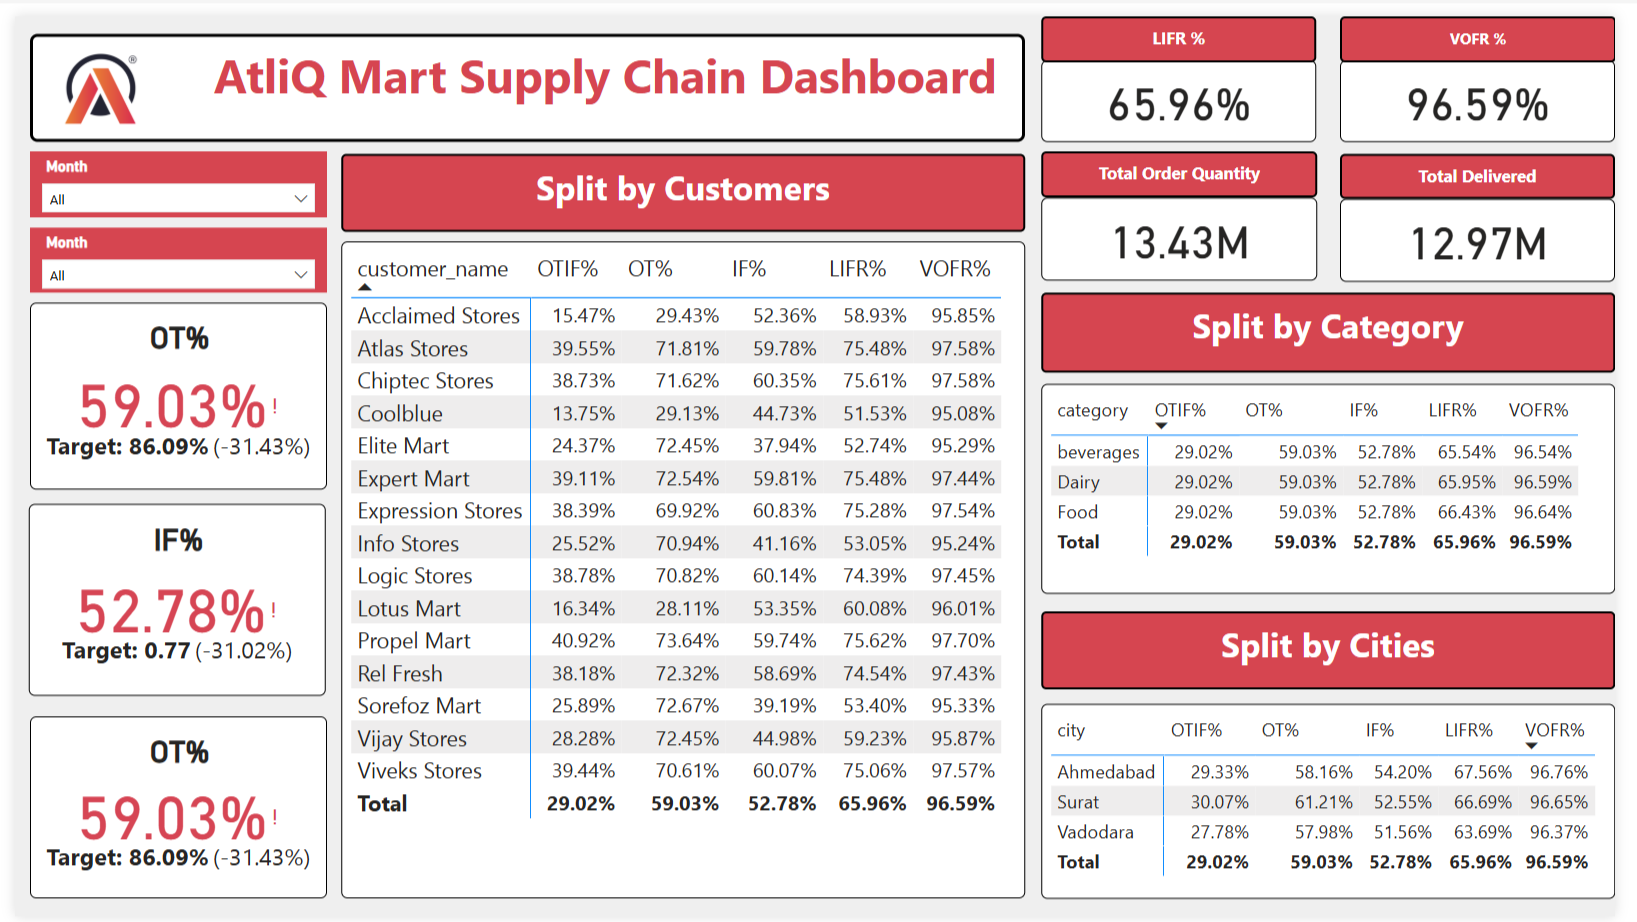

Layout of this report page (visuals, bound fields, positions):
{"tool":"powerbi","page":{"name":"Supply Chain ","canvas":[1280,720],"ordinal":0},"visuals":[{"type":"textbox","box":[11.9,14.3,796.4,86.9],"z":0},{"type":"pivotTable","fields":{"Rows":["dim_customers.customer_name"],"Values":["fact_orders_aggregate.OTIF%","fact_orders_aggregate.OT%","fact_orders_aggregate.IF%","fact_order_lines.LIFR%","fact_order_lines.VOFR%"]},"box":[260.7,179.8,547.6,526.2],"z":1000},{"type":"kpi","title":"OT% ","fields":{"Indicator":["fact_orders_aggregate.OT%"],"TrendLine":["fact_order_lines.order_placement_date.Variation.Date Hierarchy.Year"],"Goal":["dim_targets_orders.OT_AVG"]},"box":[11.9,228.6,238.1,150],"z":2000},{"type":"kpi","title":"IF% ","fields":{"TrendLine":["fact_order_lines.order_placement_date.Variation.Date Hierarchy.Year"],"Indicator":["fact_orders_aggregate.IF%"],"Goal":["dim_targets_orders.IF_AVG"]},"box":[10.7,390.5,238,153.6],"z":3000},{"type":"kpi","title":"OT% ","fields":{"Indicator":["fact_orders_aggregate.OT%"],"TrendLine":["fact_order_lines.order_placement_date.Variation.Date Hierarchy.Year"],"Goal":["dim_targets_orders.OT_AVG"]},"box":[11.9,559.5,238.1,146.4],"z":4000},{"type":"pivotTable","fields":{"Values":["fact_orders_aggregate.OTIF%","fact_orders_aggregate.OT%","fact_orders_aggregate.IF%","fact_order_lines.LIFR%","fact_order_lines.VOFR%"],"Rows":["dim_customers.city"]},"box":[821.4,550,458.3,155.9],"z":5000},{"type":"textbox","box":[260.7,109.5,547.6,63.1],"z":6000},{"type":"textbox","box":[821.4,476.2,458.3,63.1],"z":7000},{"type":"pivotTable","fields":{"Values":["fact_orders_aggregate.OTIF%","fact_orders_aggregate.OT%","fact_orders_aggregate.IF%","fact_order_lines.LIFR%","fact_order_lines.VOFR%"],"Rows":["dim_products.category"]},"box":[821.4,294.1,458.3,167.9],"z":8000},{"type":"textbox","box":[821.4,221.4,458.3,63.1],"z":9000},{"type":"card","fields":{"Values":["fact_order_lines.LIFR%"]},"box":[821.4,34.5,220,66.7],"z":10000},{"type":"textbox","box":[821.4,0,220,36.9],"z":11000},{"type":"card","fields":{"Values":["fact_order_lines.VOFR%"]},"box":[1059.5,34.5,220.2,66.7],"z":12000},{"type":"textbox","box":[1059.5,0,221.4,36.9],"z":13000},{"type":"card","fields":{"Values":["Sum(fact_order_lines.order_qty)"]},"box":[821.4,145.2,220.2,66.7],"z":14000},{"type":"textbox","box":[821.4,108.3,220.2,36.9],"z":15000},{"type":"card","fields":{"Values":["Sum(fact_order_lines.delivery_qty)"]},"box":[1059.5,146.4,220.2,66.7],"z":16000},{"type":"textbox","box":[1059.5,109.5,220.2,36.9],"z":17000},{"type":"slicer","fields":{"Values":["fact_order_lines.actual_delivery_date.Variation.Date Hierarchy.Month"]},"box":[11.9,108.3,238.1,52.4],"z":18000},{"type":"slicer","fields":{"Values":["fact_order_lines.actual_delivery_date.Variation.Date Hierarchy.Month"]},"box":[11.9,169.1,238.1,52.4],"z":19000},{"type":"image","box":[26.1,23.6,86.9,68.3],"z":20000}]}

Visuals, with their boxes in screenshot pixels (x1, y1, x2, y2), scaled from the page's 1280x720 canvas onto the 1637x922 screenshot:
textbox: <region>15, 18, 1034, 130</region>
pivotTable - dim_customers.customer_name x fact_orders_aggregate.OTIF%: <region>333, 230, 1034, 904</region>
"OT% " kpi: <region>15, 293, 320, 485</region>
"IF% " kpi: <region>14, 500, 318, 697</region>
"OT% " kpi: <region>15, 716, 320, 904</region>
pivotTable - fact_orders_aggregate.OTIF% x fact_orders_aggregate.OT%: <region>1050, 704, 1636, 904</region>
textbox: <region>333, 140, 1034, 221</region>
textbox: <region>1050, 610, 1636, 691</region>
pivotTable - fact_orders_aggregate.OTIF% x fact_orders_aggregate.OT%: <region>1050, 377, 1636, 592</region>
textbox: <region>1050, 284, 1636, 364</region>
card - fact_order_lines.LIFR%: <region>1050, 44, 1332, 130</region>
textbox: <region>1050, 0, 1332, 47</region>
card - fact_order_lines.VOFR%: <region>1355, 44, 1636, 130</region>
textbox: <region>1355, 0, 1636, 47</region>
card - Sum(fact_order_lines.order_qty): <region>1050, 186, 1332, 271</region>
textbox: <region>1050, 139, 1332, 186</region>
card - Sum(fact_order_lines.delivery_qty): <region>1355, 187, 1636, 273</region>
textbox: <region>1355, 140, 1636, 187</region>
slicer - fact_order_lines.actual_delivery_date.Variation.Date Hierarchy.Month: <region>15, 139, 320, 206</region>
slicer - fact_order_lines.actual_delivery_date.Variation.Date Hierarchy.Month: <region>15, 217, 320, 284</region>
image: <region>33, 30, 145, 118</region>
